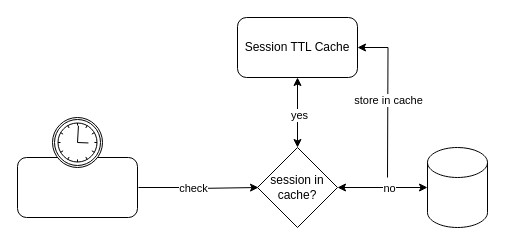
This 505x245 diagram has some shape labels left out. Here are the shapes that lost their labels. From the top down, the centre of each, then its label:
At point (77, 187): "Gateway Server Session Worker".
At point (457, 187): "POKT Node".
